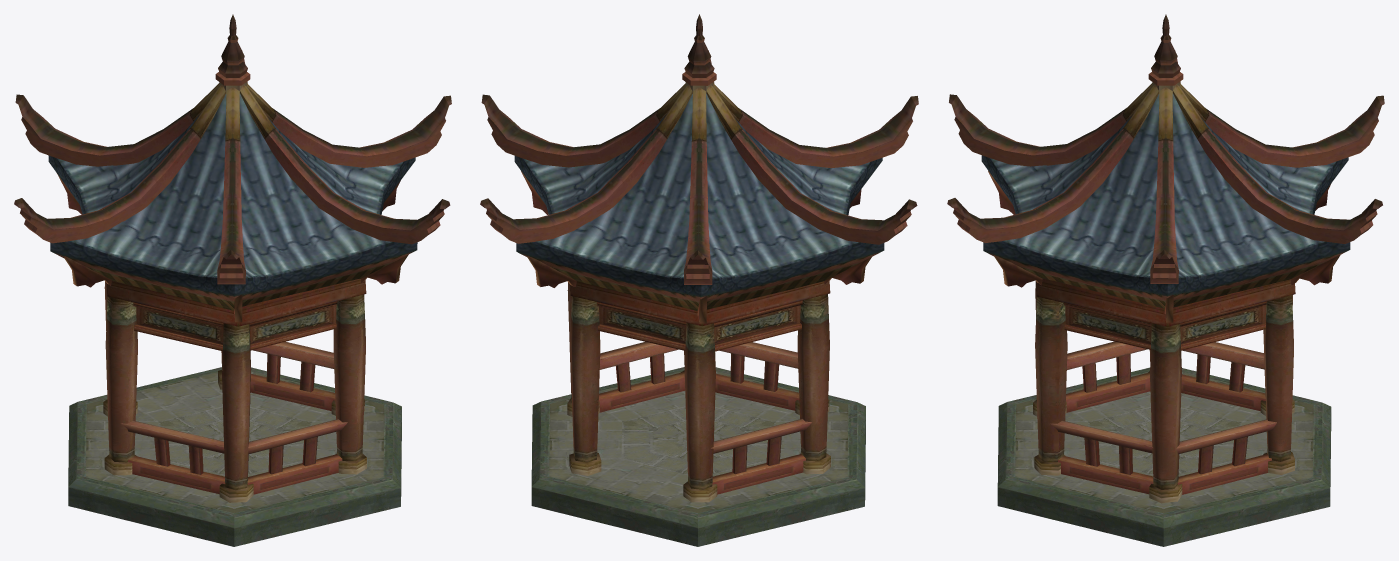
3 renders of one model, left to right at view 1: azimuth 30°, elevation 25°; view 2: azimuth 150°, elevation 25°; view 3: azimuth 270°, elevation 25°, orthographic.
Parts seen in each view (by area): view 1: polySurface2511; view 2: polySurface2511; view 3: polySurface2511.
Part boxes in pixels (<box>): polySurface2511: <box>14,14,451,546</box>; polySurface2511: <box>480,14,918,546</box>; polySurface2511: <box>947,14,1384,546</box>.
Size of the model in its own units: 23.76 by 23.6 by 20.75.
